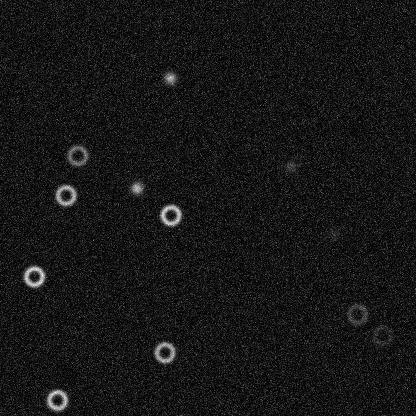Ring: (21, 264, 45, 288), (158, 203, 182, 227), (152, 340, 176, 364), (45, 387, 69, 411), (53, 183, 77, 207), (345, 302, 369, 326), (370, 323, 394, 347), (65, 143, 89, 167)
Spot: (128, 180, 144, 196), (326, 225, 342, 241), (162, 70, 178, 86), (282, 158, 298, 174)
